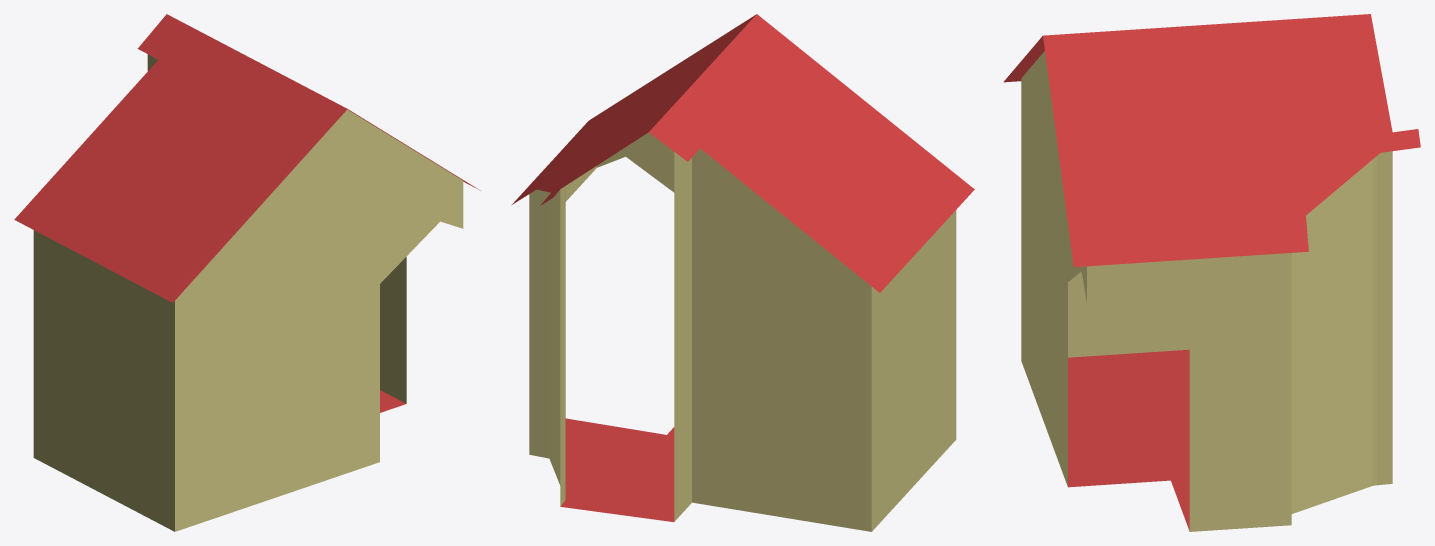
3 views of the same model, side by side, from view 1: azimuth 30°, elevation 25°; view 2: azimuth 150°, elevation 25°; view 3: azimuth 270°, elevation 25° (orthographic). The views are drawn at different scales.
Bounding box in the file's own units: 15.67 × 13.17 × 14.87.
